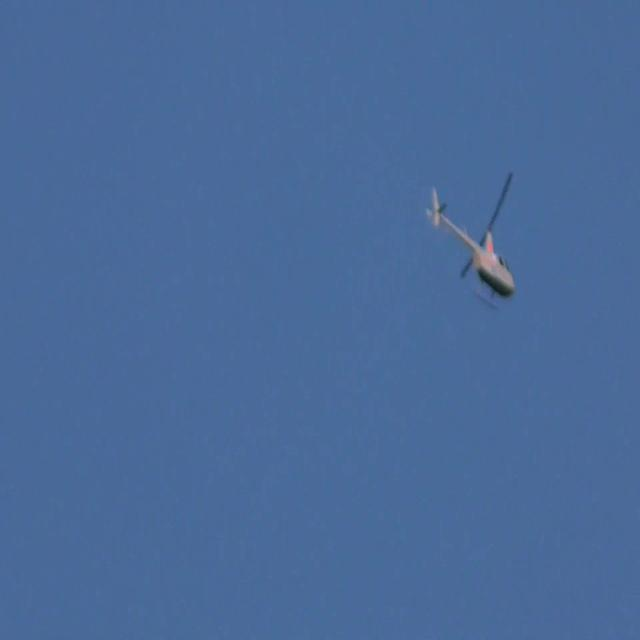CIV_HELO: (427, 185, 517, 310)
